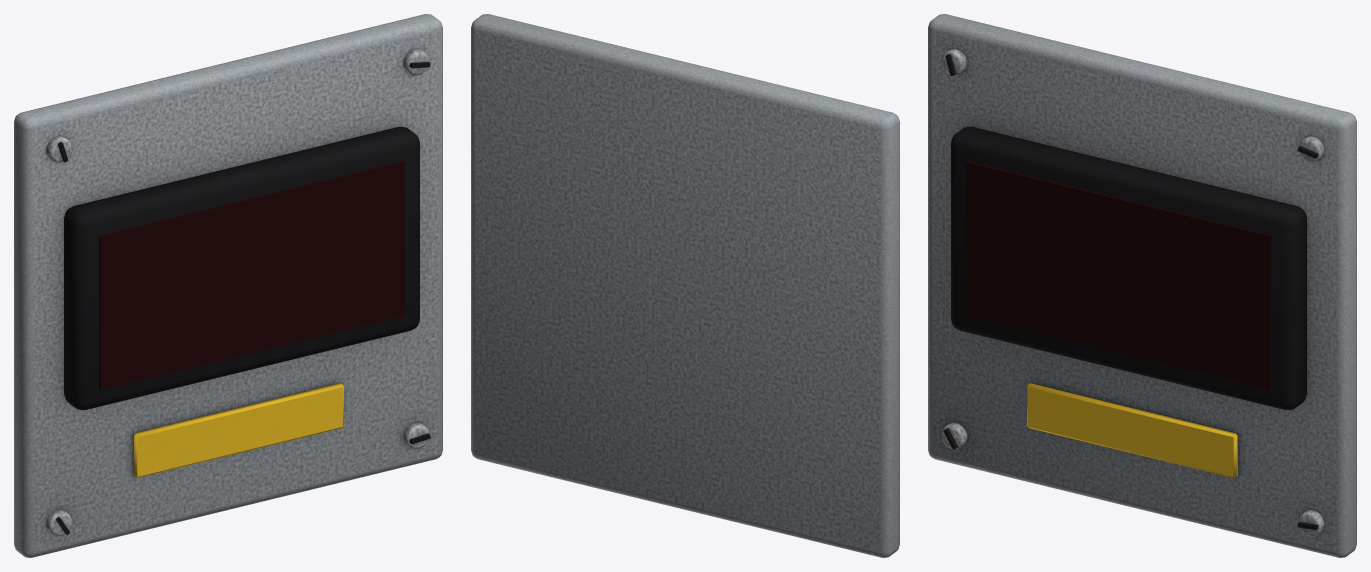
Rendered from timer.glb.
The picture shows the model from 3 angles, left to right: view 1: azimuth 30°, elevation 25°; view 2: azimuth 150°, elevation 25°; view 3: azimuth 330°, elevation 25°; orthographic projection.
Visible parts, largest first — view 1: timer, screen; view 2: timer; view 3: timer, screen.
Boxes of the visible parts, <box> form: timer: <box>14,14,442,557</box>; screen: <box>99,161,404,390</box>; timer: <box>471,14,899,557</box>; timer: <box>928,14,1356,557</box>; screen: <box>966,161,1271,390</box>.
Size of the model in its own units: 0.8 by 0.8 by 0.1045.
Materials: 2 (1 with a texture image).
